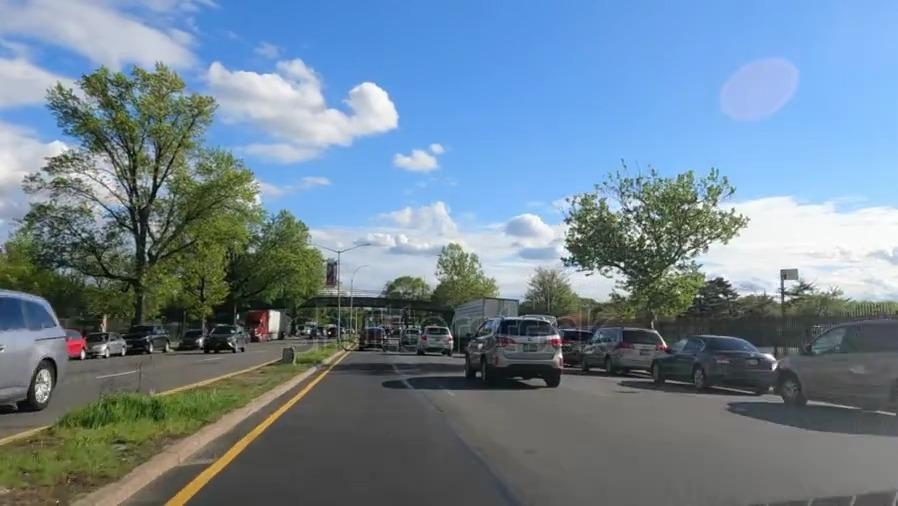car: (782, 323, 898, 405), (1, 287, 61, 415), (661, 334, 768, 394), (470, 319, 554, 379), (589, 326, 656, 369), (207, 322, 240, 356), (127, 326, 165, 351), (88, 331, 123, 358), (421, 323, 451, 353), (62, 327, 85, 360), (561, 326, 583, 359), (361, 325, 388, 349), (180, 329, 199, 349)
wheel: (25, 363, 55, 407)
